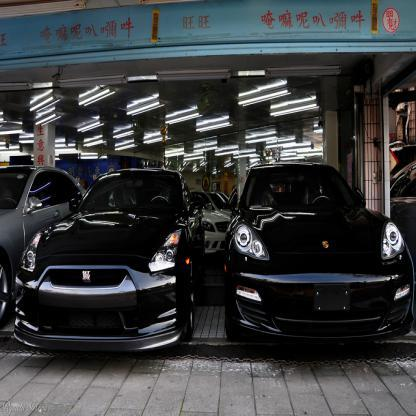car: (13, 161, 206, 356), (224, 159, 415, 342), (0, 161, 86, 332), (185, 183, 230, 256)
